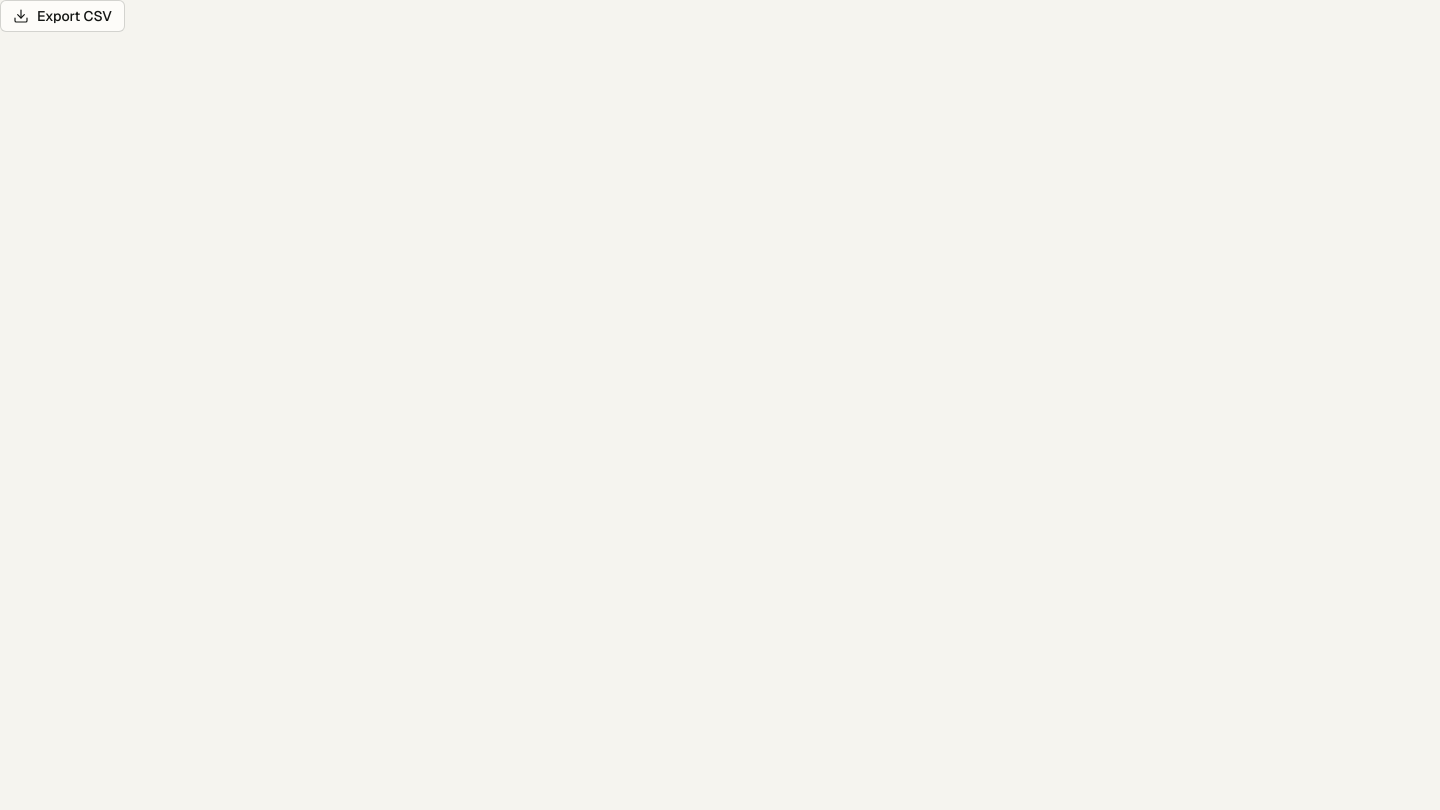
Test: ExportButton › counts first, then downloads the same filters
This screenshot has width=1440, height=810.
Later steps or results of the test are not shown.
Step 1. Click the button "Export CSV" → [62, 16], box [0,0,125,32]
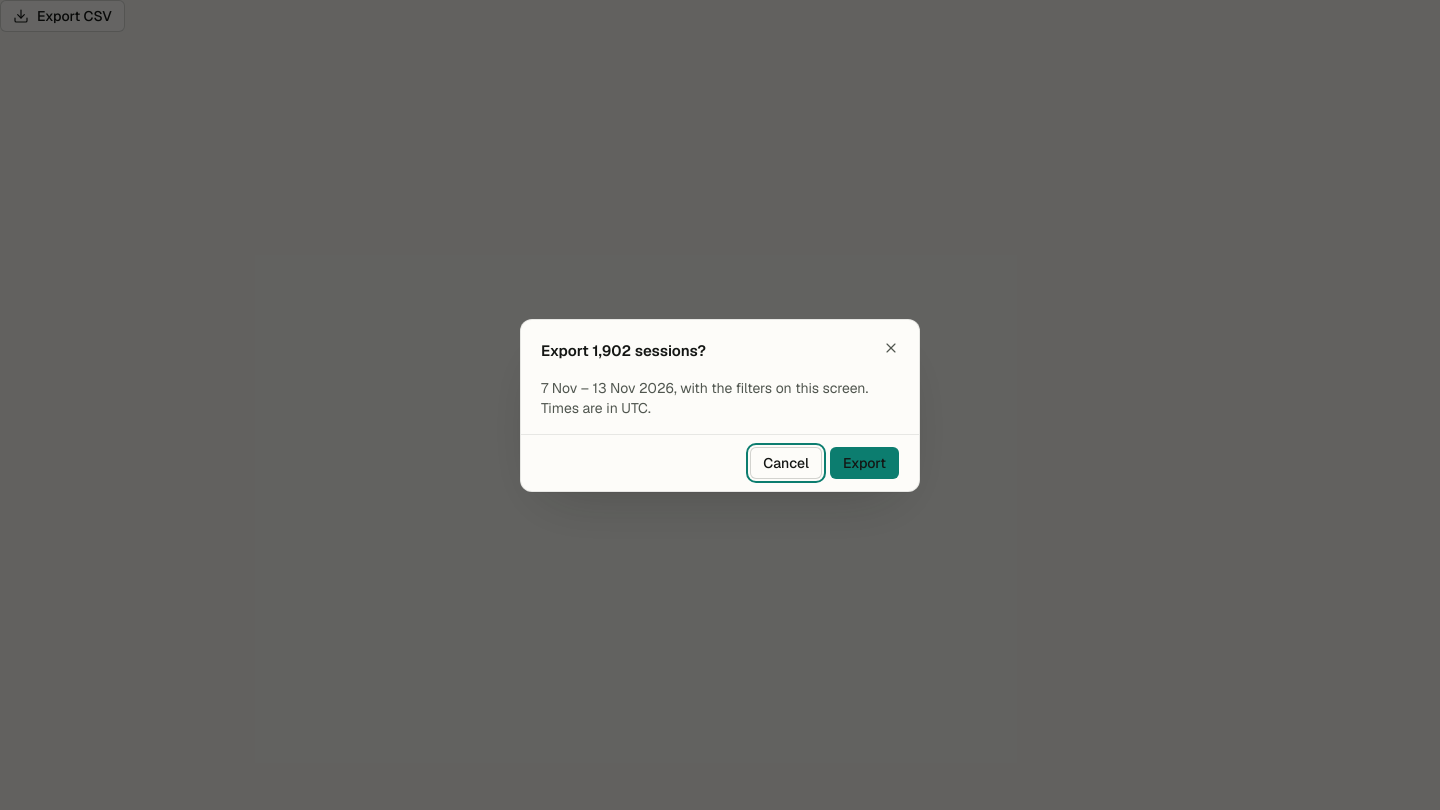
expect the heading "Export 1,902 sessions?" is shown: met, box [541,340,706,360]
expect the text "7 Nov – 13 Nov 2026, with the filters on this screen. Times are in UTC." is shown: met, box [541,378,899,418]
